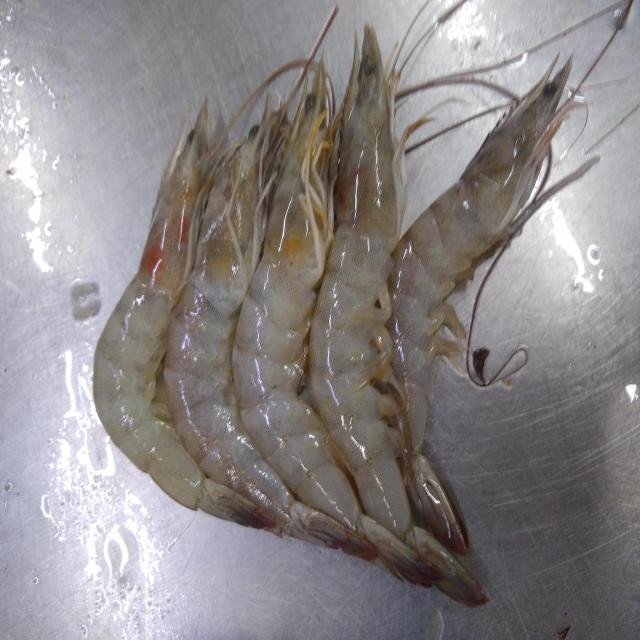shrimp: (390, 60, 572, 556), (232, 61, 362, 530), (163, 108, 292, 521), (309, 25, 412, 540), (92, 100, 208, 511)
